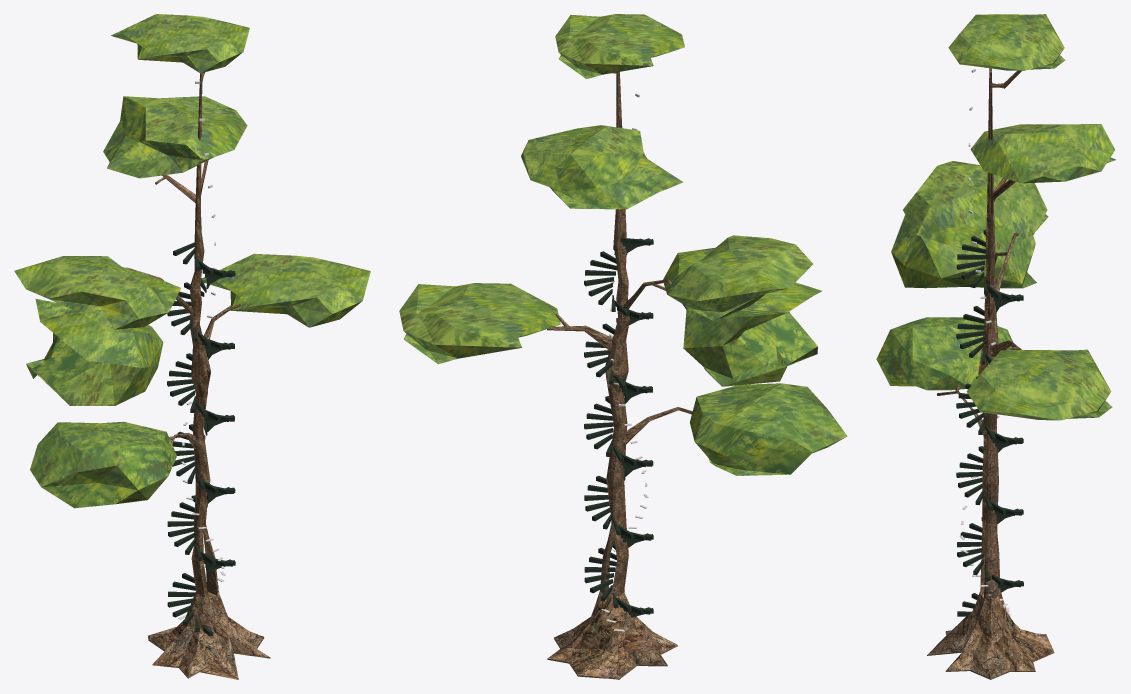
File: CPtree_stairs_v1.glb
3 views of the same model, side by side, from view 1: azimuth 30°, elevation 25°; view 2: azimuth 150°, elevation 25°; view 3: azimuth 270°, elevation 25° (orthographic). The views are drawn at different scales.
Visible parts, largest first — view 1: trunk, foliage1, foliage1.002, foliage1.001, foliage1.004, foliage1.003, stairs, foliage1.005; view 2: trunk, foliage1, foliage1.004, foliage1.001, foliage1.002, foliage1.003, stairs, foliage1.005; view 3: trunk, foliage1.004, foliage1.003, foliage1.001, foliage1, foliage1.005, stairs, foliage1.002.
Part boxes in pixels (left/top/right/bottom): trunk: left=148, top=73, right=270, bottom=679; foliage1: left=30, top=421, right=176, bottom=508; foliage1.002: left=26, top=298, right=163, bottom=405; foliage1.001: left=103, top=96, right=247, bottom=178; foliage1.004: left=202, top=253, right=370, bottom=327; foliage1.003: left=14, top=256, right=180, bottom=329; stairs: left=167, top=242, right=235, bottom=636; foliage1.005: left=111, top=14, right=249, bottom=73; trunk: left=547, top=72, right=677, bottom=679; foliage1: left=690, top=383, right=847, bottom=475; foliage1.004: left=399, top=283, right=560, bottom=364; foliage1.001: left=521, top=125, right=683, bottom=209; foliage1.002: left=683, top=282, right=821, bottom=386; foliage1.003: left=663, top=235, right=812, bottom=320; stairs: left=584, top=238, right=653, bottom=617; foliage1.005: left=555, top=14, right=684, bottom=78; trunk: left=927, top=68, right=1054, bottom=679; foliage1.004: left=966, top=349, right=1112, bottom=420; foliage1.003: left=903, top=161, right=1048, bottom=250; foliage1.001: left=970, top=124, right=1115, bottom=183; foliage1: left=876, top=317, right=1015, bottom=390; foliage1.005: left=948, top=14, right=1065, bottom=70; stairs: left=956, top=229, right=1023, bottom=616; foliage1.002: left=891, top=215, right=1036, bottom=288.
Size of what is drawn, in the model's own units: 51.62 by 82.1 by 28.95.
3 materials, 3 textured.
